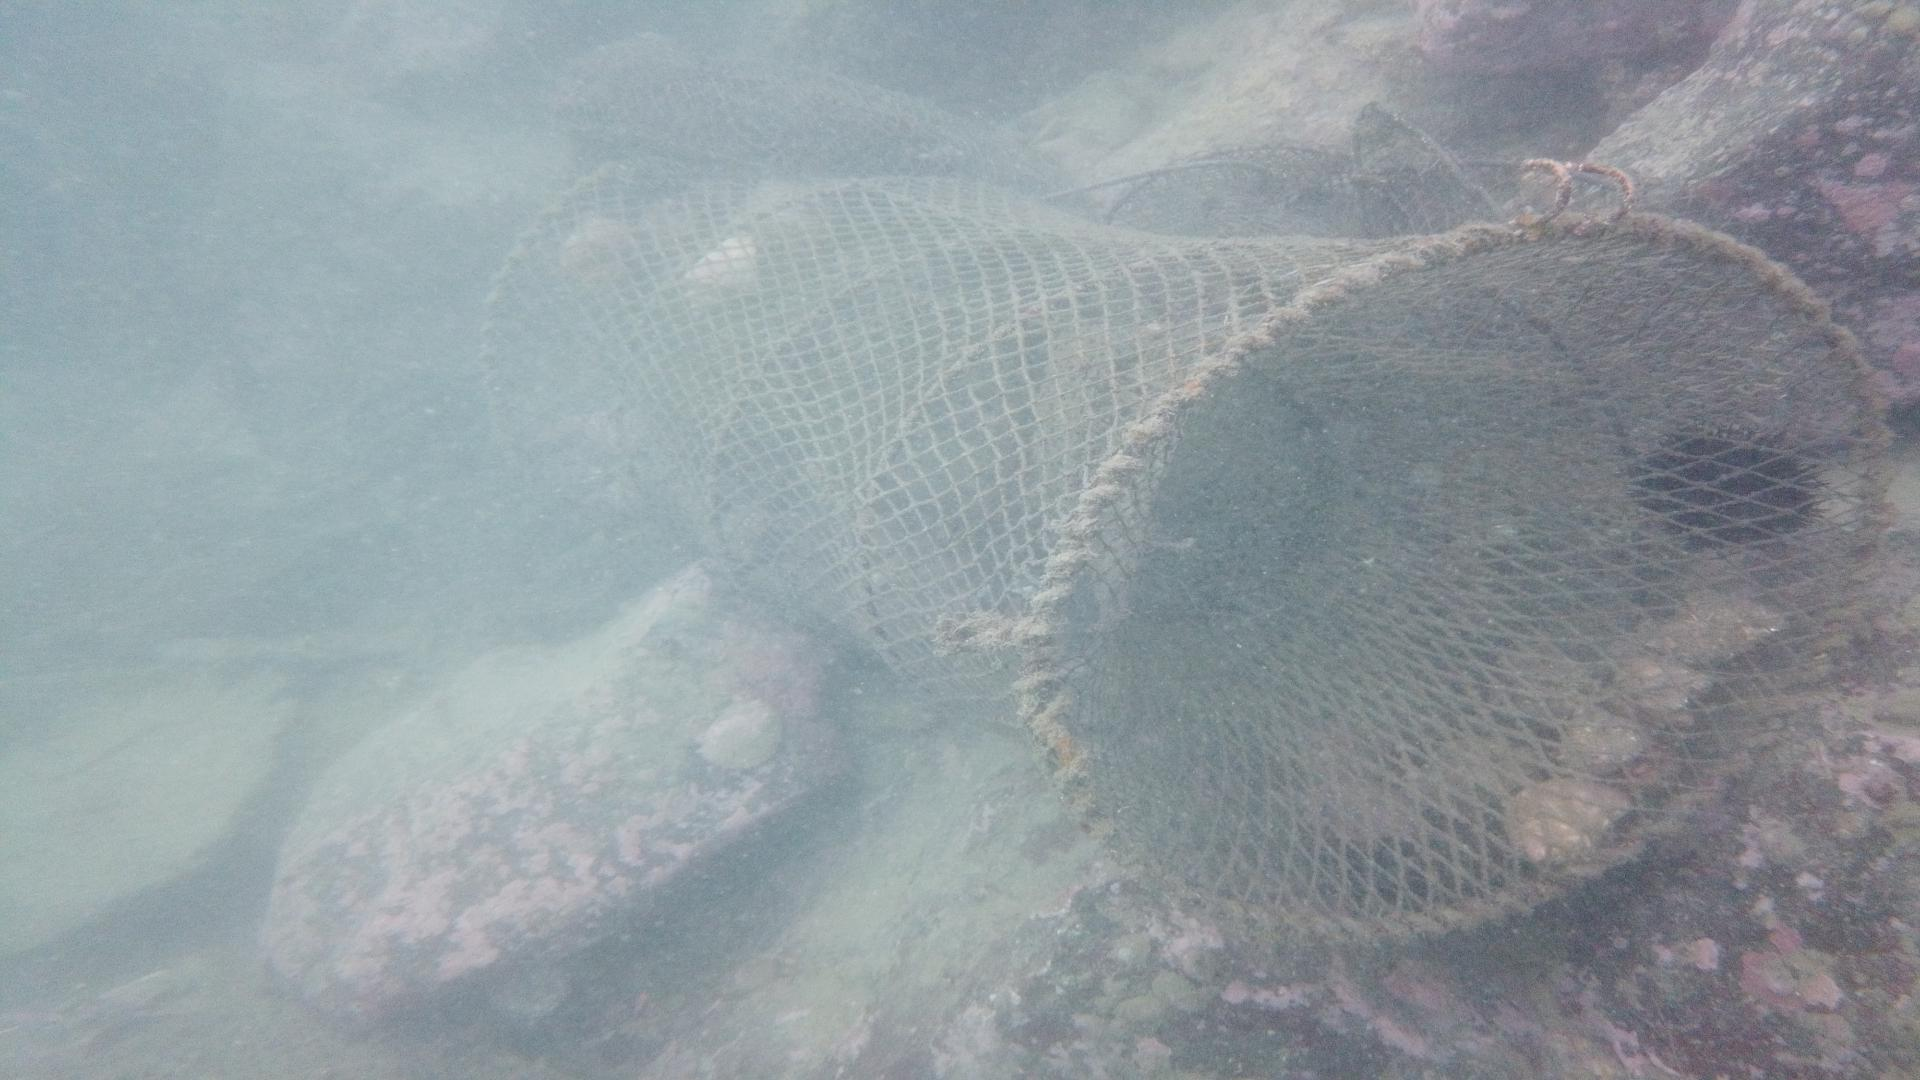spring fish trap: (485, 145, 1896, 963)
